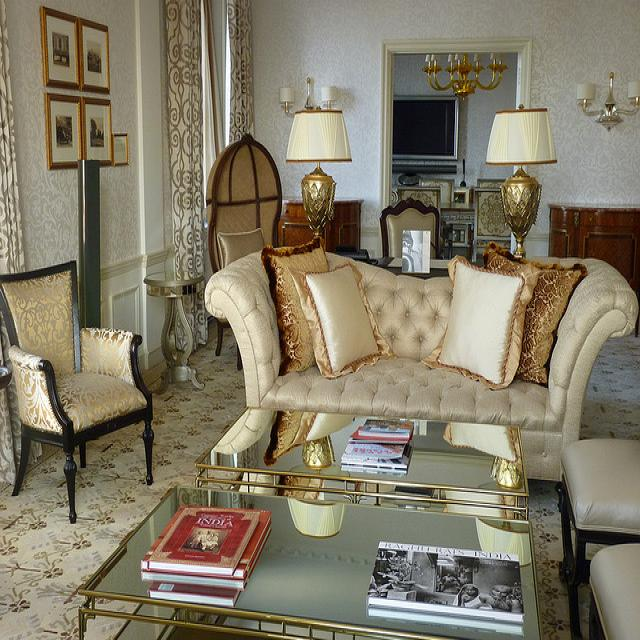chair: (2, 258, 153, 526), (561, 439, 640, 640), (205, 129, 284, 275), (589, 544, 640, 631), (380, 197, 439, 258)
dining table: (75, 469, 539, 640)
